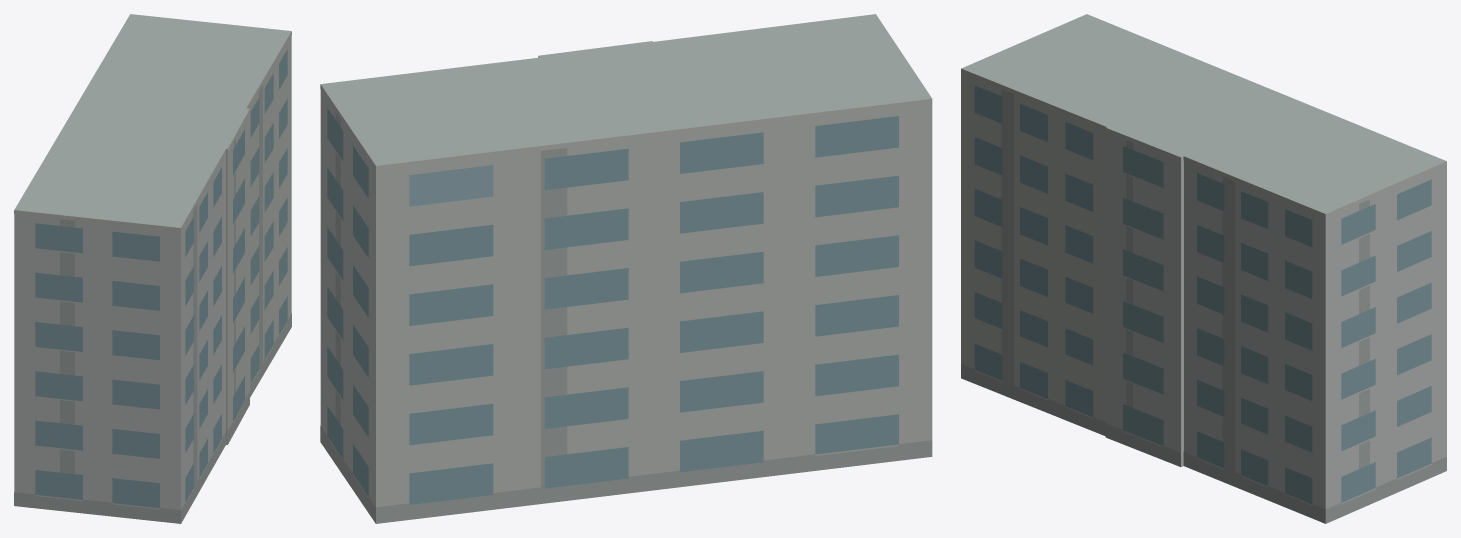
File: survey-upis-32969240.glb
3 views of the same model, side by side, from view 1: azimuth 30°, elevation 25°; view 2: azimuth 150°, elevation 25°; view 3: azimuth 270°, elevation 25° (orthographic). The views are drawn at different scales.
Visible parts, largest first — view 1: survey-upis-32969240.tmp; view 2: survey-upis-32969240.tmp; view 3: survey-upis-32969240.tmp.
Part boxes in pixels (x1,y1,x2,y2): survey-upis-32969240.tmp: [14, 14, 291, 523]; survey-upis-32969240.tmp: [320, 14, 932, 523]; survey-upis-32969240.tmp: [961, 14, 1446, 523].
Size of the model in its own units: 23.93 by 17.27 by 24.55.
